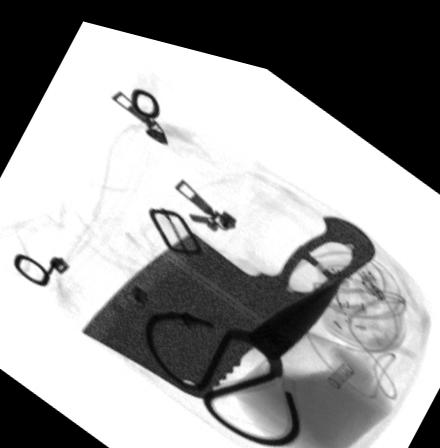Knife: (82, 199, 379, 389)
Scissors: (140, 262, 342, 432)
